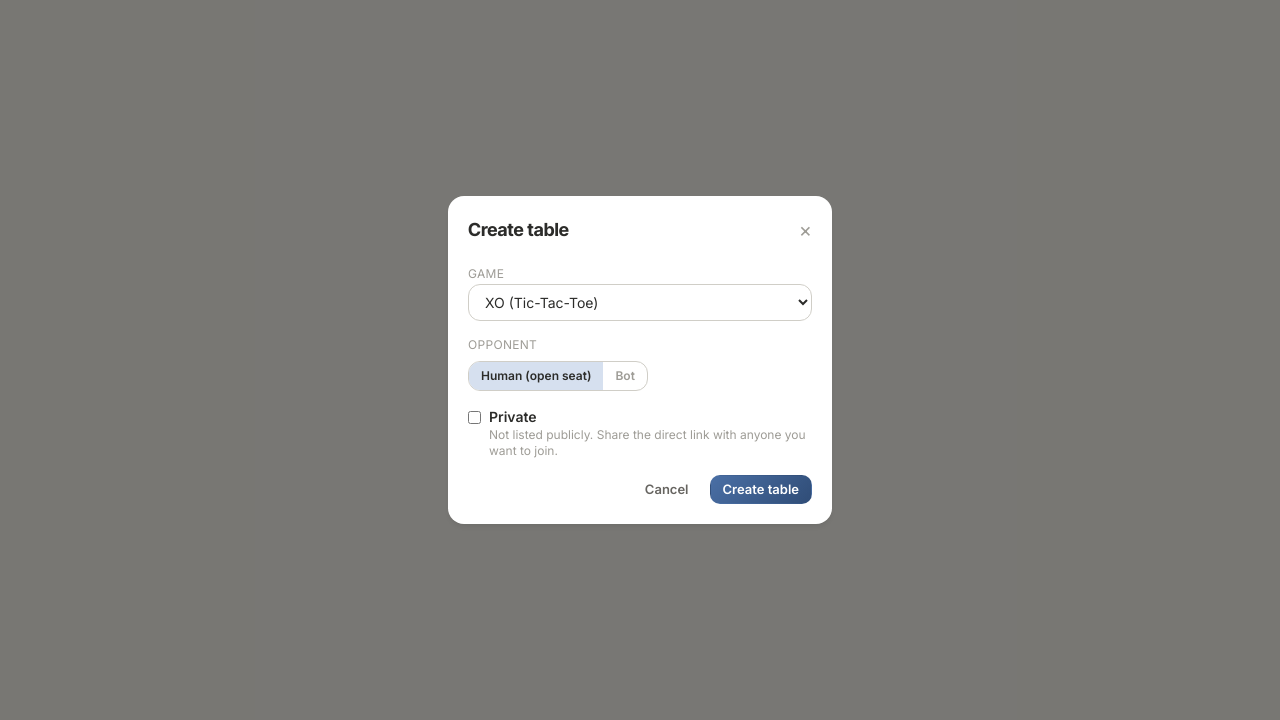
Test: CreateTableModal — Phase C.1 bot picker › hides the "My bots" tab on the bot picker for guest sessions
Click the button with test id "create-table-opponent-bot" at (625, 376), box [603, 362, 647, 390]
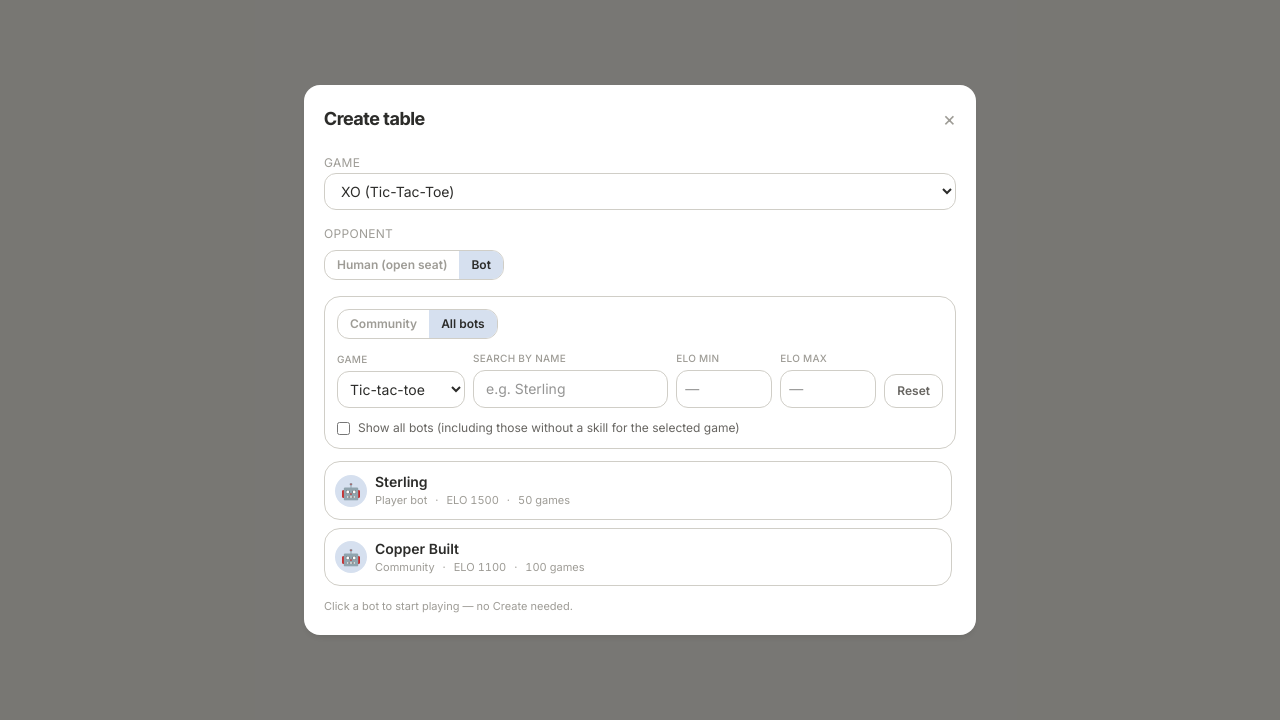
Check: the button with test id "bot-filter-owner-community" is shown, box [338, 310, 429, 338]
Check: the button with test id "bot-filter-owner-all" is shown, box [429, 310, 497, 338]
